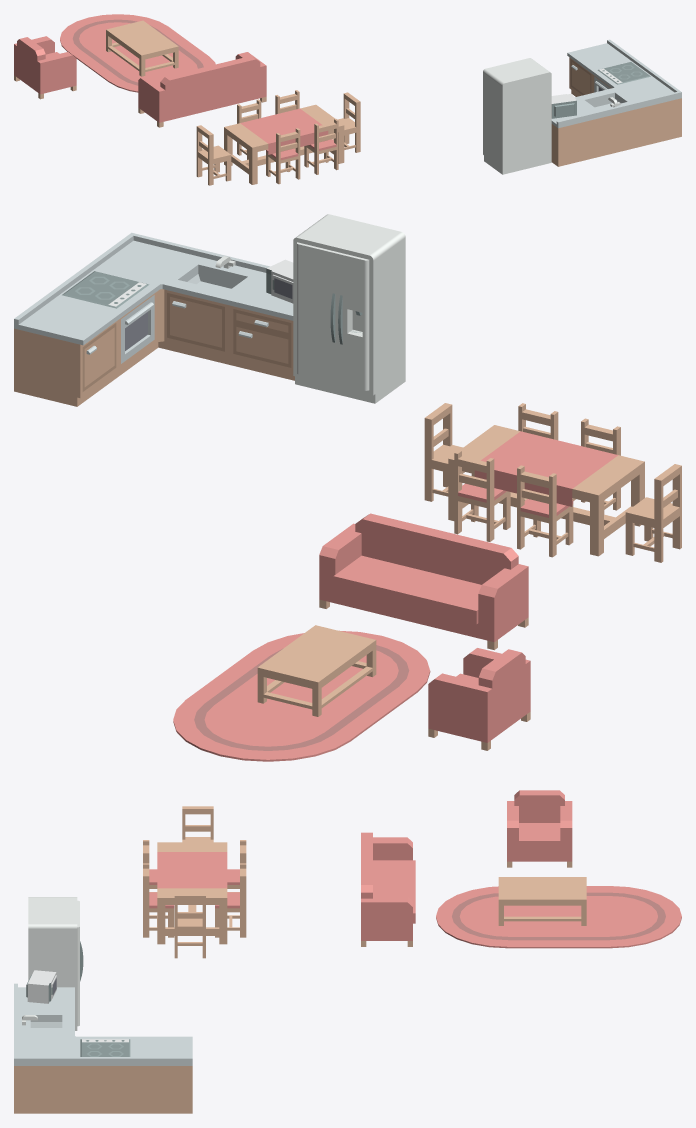
Rendered from first_floor_furniture.fbx.
3 views of the same model, one above another, from view 1: azimuth 30°, elevation 25°; view 2: azimuth 150°, elevation 25°; view 3: azimuth 270°, elevation 25° (orthographic). The views are drawn at different scales.
Parts seen in each view (by area): view 1: kitchenFridgeLarge_68, loungeSofa_16, rugRounded_17, tableCloth_44, kitchenCabinetCornerInner_70, loungeChair_45, kitchenSink_73, kitchenCabinetDrawer_71, tableCoffee_47, kitchenCabinet_72, kitchenStoveElectric_64, bench_59 (+6 smaller); view 2: kitchenFridgeLarge_68, loungeSofa_16, rugRounded_17, tableCloth_44, kitchenCabinet_72, loungeChair_45, kitchenSink_73, tableCoffee_47, kitchenCabinetDrawer_71, kitchenStoveElectric_64, kitchenCabinetCornerInner_70, bench_59 (+6 smaller); view 3: rugRounded_17, loungeSofa_16, tableCloth_44, kitchenCabinetCornerInner_70, loungeChair_45, kitchenCabinet_72, kitchenStoveElectric_64, kitchenFridgeLarge_68, tableCoffee_47, kitchenSink_73, bench_60, kitchenCabinetDrawer_71 (+4 smaller).
Boxes of the visible parts, x1,y1,x2,y2 form: kitchenFridgeLarge_68: [483, 58, 551, 174]; loungeSofa_16: [138, 52, 266, 127]; rugRounded_17: [60, 14, 215, 92]; tableCloth_44: [224, 104, 344, 184]; kitchenCabinetCornerInner_70: [614, 74, 681, 146]; loungeChair_45: [14, 36, 76, 99]; kitchenSink_73: [574, 88, 638, 156]; kitchenCabinetDrawer_71: [551, 98, 598, 166]; tableCoffee_47: [106, 20, 178, 76]; kitchenCabinet_72: [567, 39, 632, 96]; kitchenStoveElectric_64: [591, 56, 656, 92]; bench_59: [196, 125, 231, 185]; kitchenFridgeLarge_68: [293, 214, 405, 403]; loungeSofa_16: [319, 513, 528, 650]; rugRounded_17: [173, 630, 430, 761]; tableCloth_44: [448, 425, 644, 556]; kitchenCabinet_72: [14, 291, 121, 406]; loungeChair_45: [428, 648, 530, 750]; kitchenSink_73: [162, 250, 267, 365]; tableCoffee_47: [257, 625, 376, 716]; kitchenCabinetDrawer_71: [227, 266, 294, 380]; kitchenStoveElectric_64: [52, 262, 159, 378]; kitchenCabinetCornerInner_70: [91, 232, 201, 350]; bench_59: [625, 464, 681, 562]; rugRounded_17: [436, 886, 681, 948]; loungeSofa_16: [361, 832, 415, 946]; tableCloth_44: [157, 842, 227, 944]; kitchenCabinetCornerInner_70: [14, 1032, 76, 1113]; loungeChair_45: [507, 790, 572, 867]; kitchenCabinet_72: [134, 1036, 192, 1113]; kitchenStoveElectric_64: [76, 1036, 134, 1113]; kitchenFridgeLarge_68: [28, 897, 83, 1030]; tableCoffee_47: [498, 877, 586, 925]; kitchenSink_73: [14, 1008, 74, 1035]; bench_60: [174, 893, 205, 958]; kitchenCabinetDrawer_71: [14, 983, 74, 1011].
Size of the model in its own units: 40.47 by 7.94 by 42.62.
